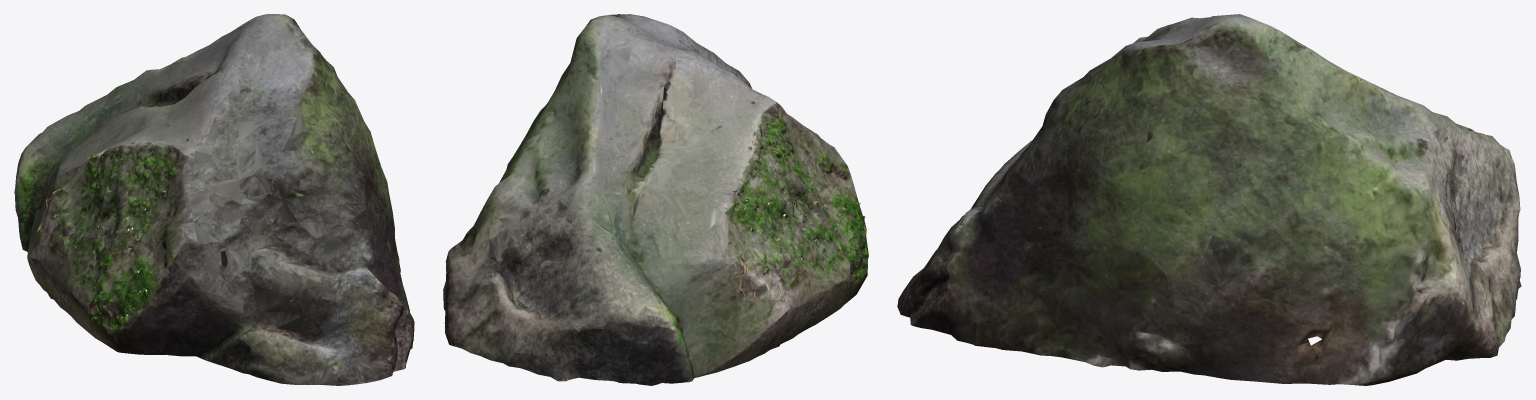
Rendered from small_rock.glb.
3 renders of one model, left to right at view 1: azimuth 30°, elevation 25°; view 2: azimuth 150°, elevation 25°; view 3: azimuth 270°, elevation 25°, orthographic. The views are drawn at different scales.
Visible parts, largest first — view 1: abound_20260410-0844_C31e270aa1479bdee0c10861eb346e62; view 2: abound_20260410-0844_C31e270aa1479bdee0c10861eb346e62; view 3: abound_20260410-0844_C31e270aa1479bdee0c10861eb346e62.
Boxes of the visible parts, x1,y1,x2,y2 form: abound_20260410-0844_C31e270aa1479bdee0c10861eb346e62: (14,14,414,385); abound_20260410-0844_C31e270aa1479bdee0c10861eb346e62: (443,14,868,385); abound_20260410-0844_C31e270aa1479bdee0c10861eb346e62: (897,14,1521,385).
Size of the model in its own units: 0.7002 by 0.5359 by 0.9797.
Materials: 1 (1 with a texture image).
